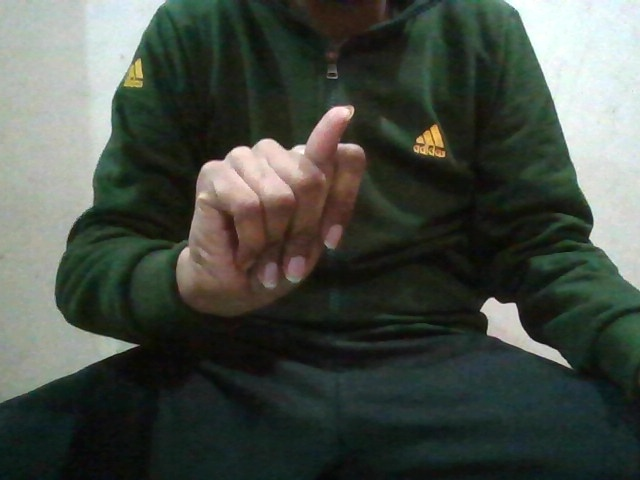T: (187, 98, 369, 302)
